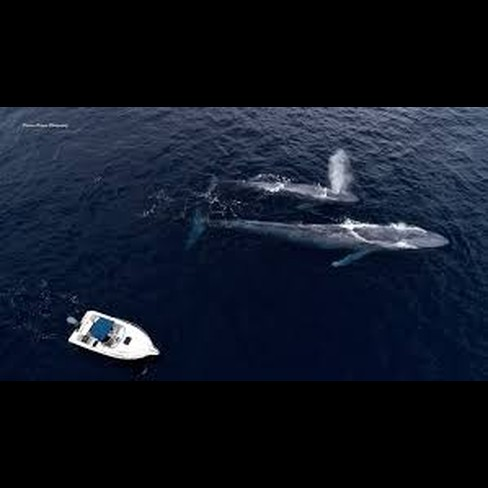bluewhale: (185, 199, 452, 273), (202, 166, 365, 208)
boat: (59, 307, 164, 368)
